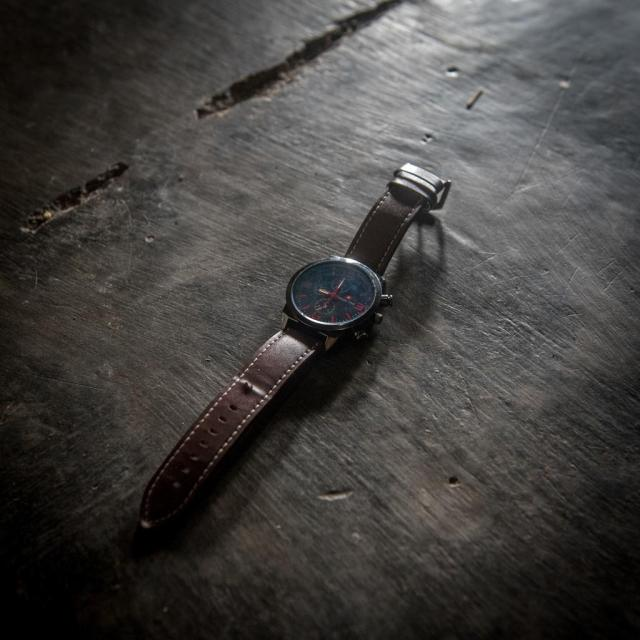Wrist watch: (138, 162, 453, 533)
